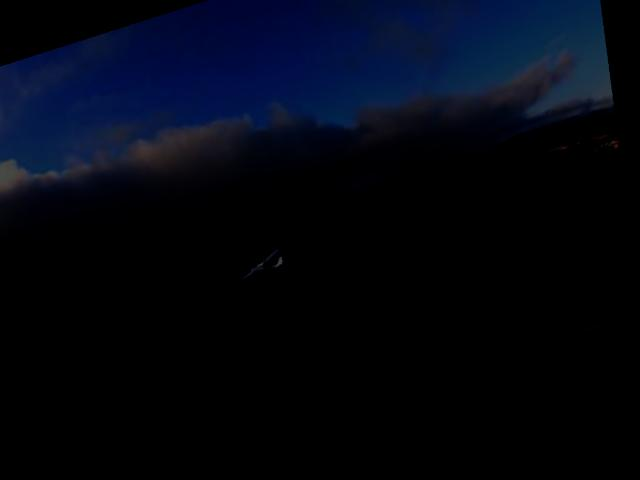uav: (240, 249, 297, 292)
